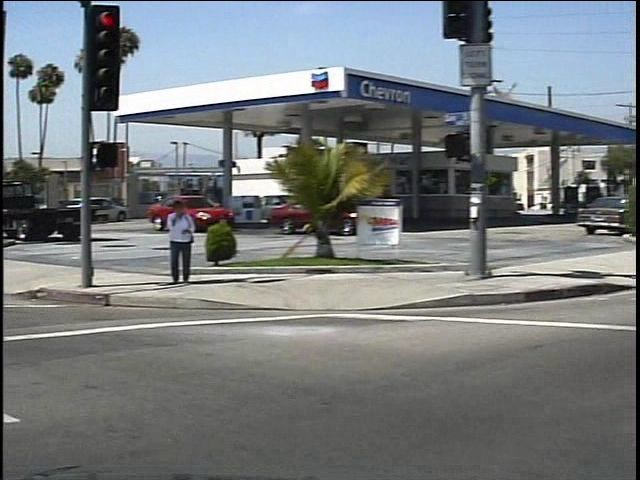person: (156, 196, 190, 290)
